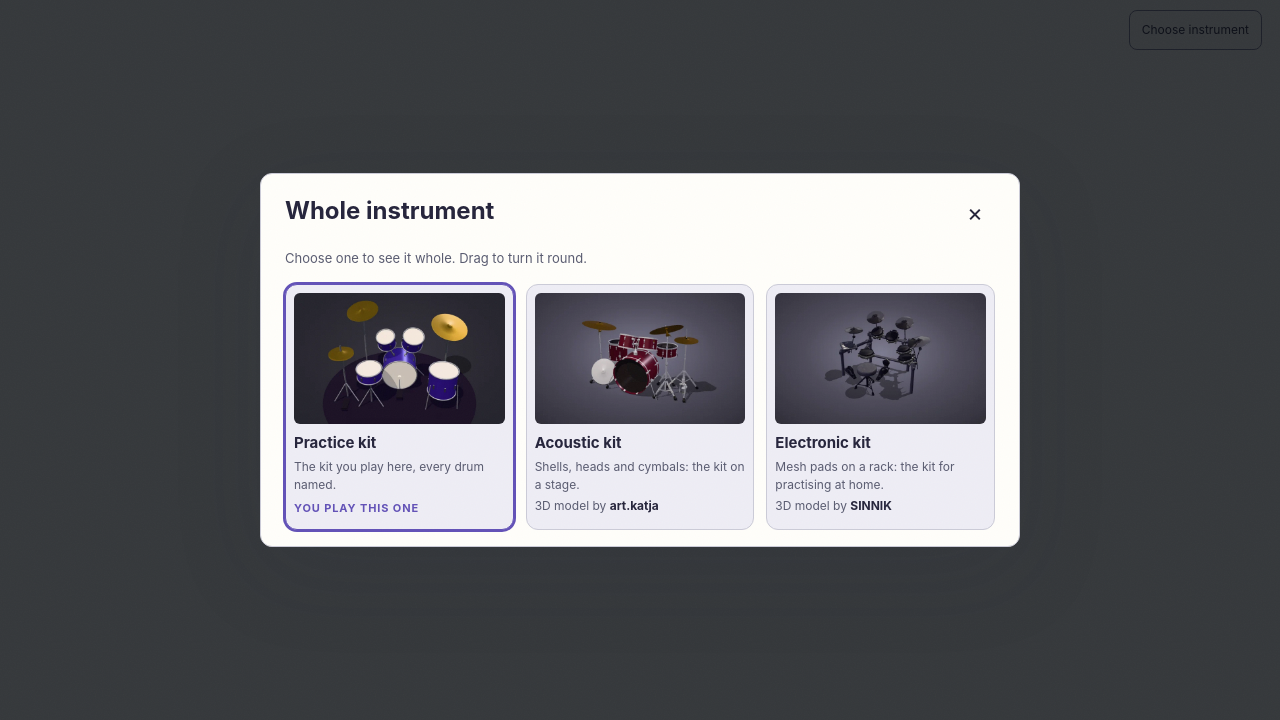
it: an instrument that is only looked at › leaves the instrument you play on the stage when that is the one chosen
The width and height of the screenshot is (1280, 720).
Click the button with class "model-card" that starts with "Practice kit": coordinates (399, 407) [285,284,514,530]
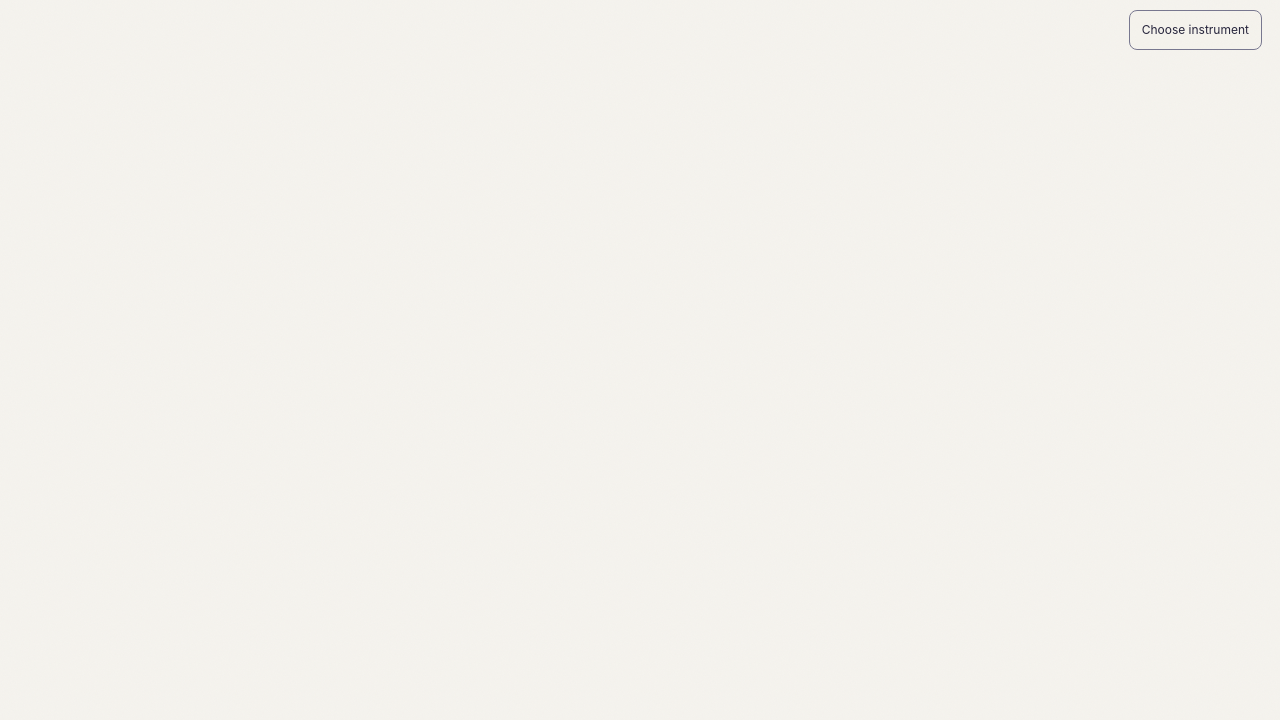
Expected: the dialog is gone
